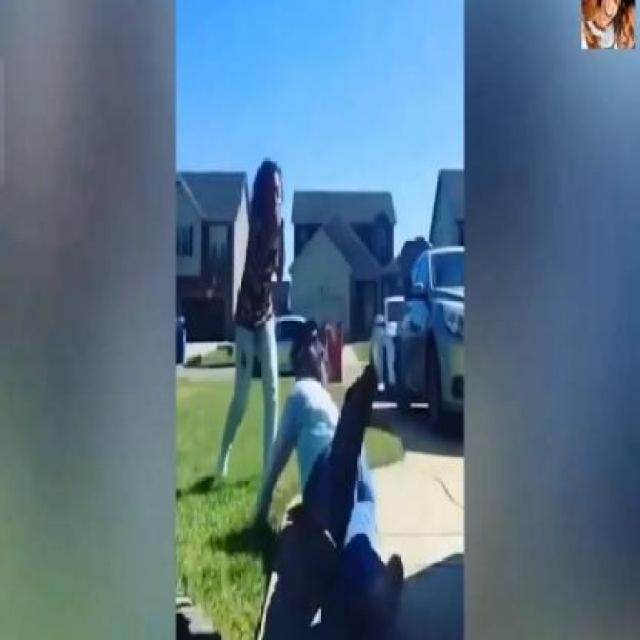fall: (278, 323, 414, 639)
